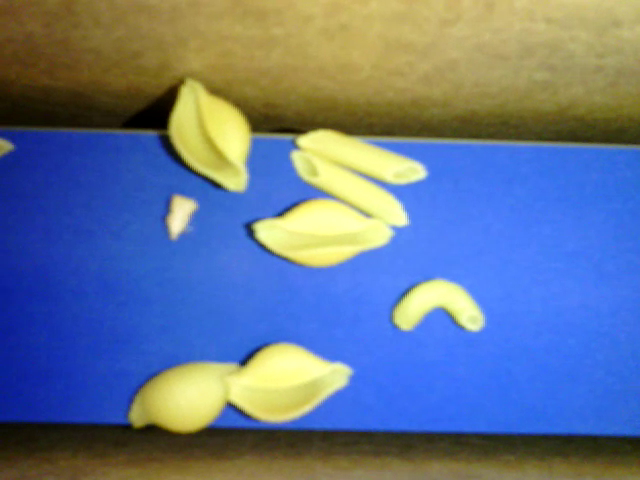elbow: (390, 278, 483, 332)
penne: (288, 149, 408, 227), (293, 128, 428, 185)
shell: (251, 196, 393, 270), (225, 342, 351, 424), (165, 77, 252, 191), (127, 362, 243, 430)
